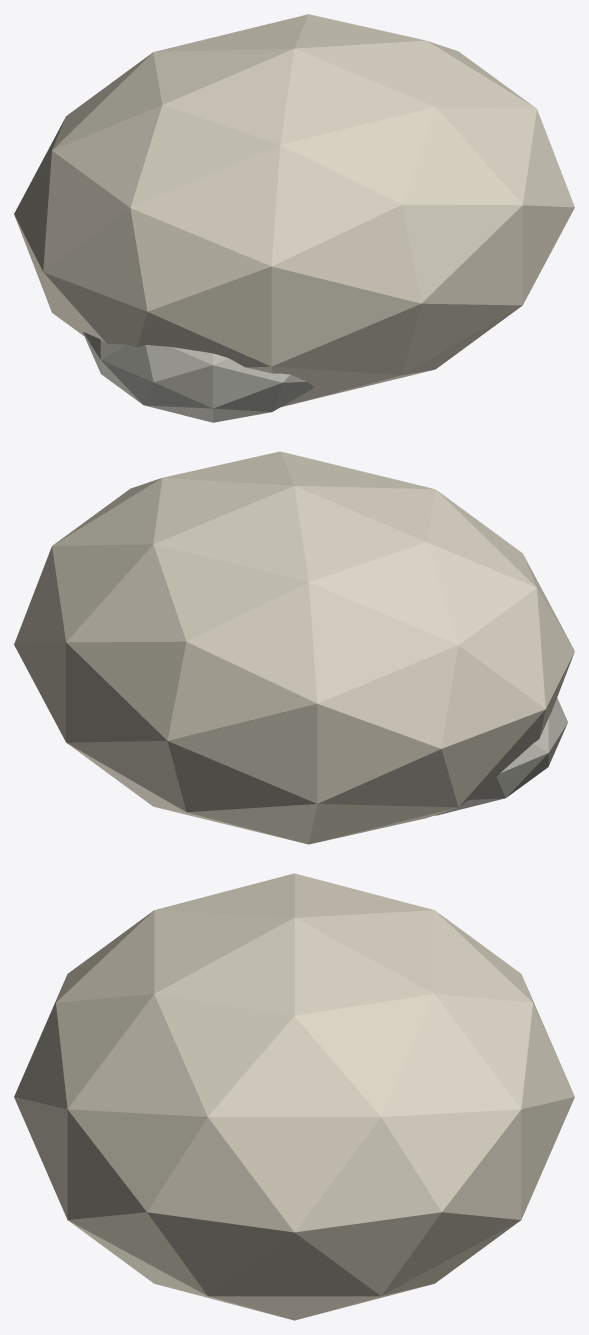
The model's file is rock_warm.glb.
3 renders of one model, top to bottom at view 1: azimuth 30°, elevation 25°; view 2: azimuth 150°, elevation 25°; view 3: azimuth 270°, elevation 25°, orthographic. The views are drawn at different scales.
Visible parts, largest first — view 1: rock_warm_part_0, rock_warm_part_1; view 2: rock_warm_part_0, rock_warm_part_1; view 3: rock_warm_part_0.
Part boxes in pixels (left/top/right/bottom): rock_warm_part_0: left=14, top=14, right=574, bottom=406; rock_warm_part_1: left=83, top=332, right=314, bottom=422; rock_warm_part_0: left=14, top=451, right=574, bottom=844; rock_warm_part_1: left=435, top=698, right=567, bottom=815; rock_warm_part_0: left=14, top=873, right=574, bottom=1320.
Bounding box in the file's own units: 2.4 × 1.48 × 2.1.
